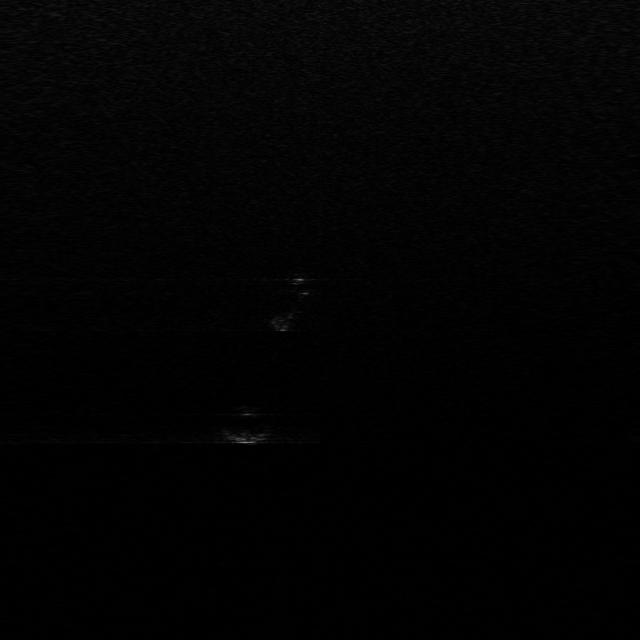ball: (217, 406, 273, 446)
tyre: (272, 267, 309, 332)
